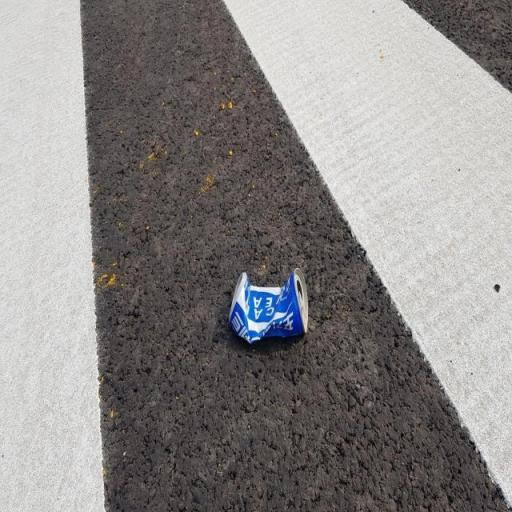metal: (218, 232, 314, 372)
